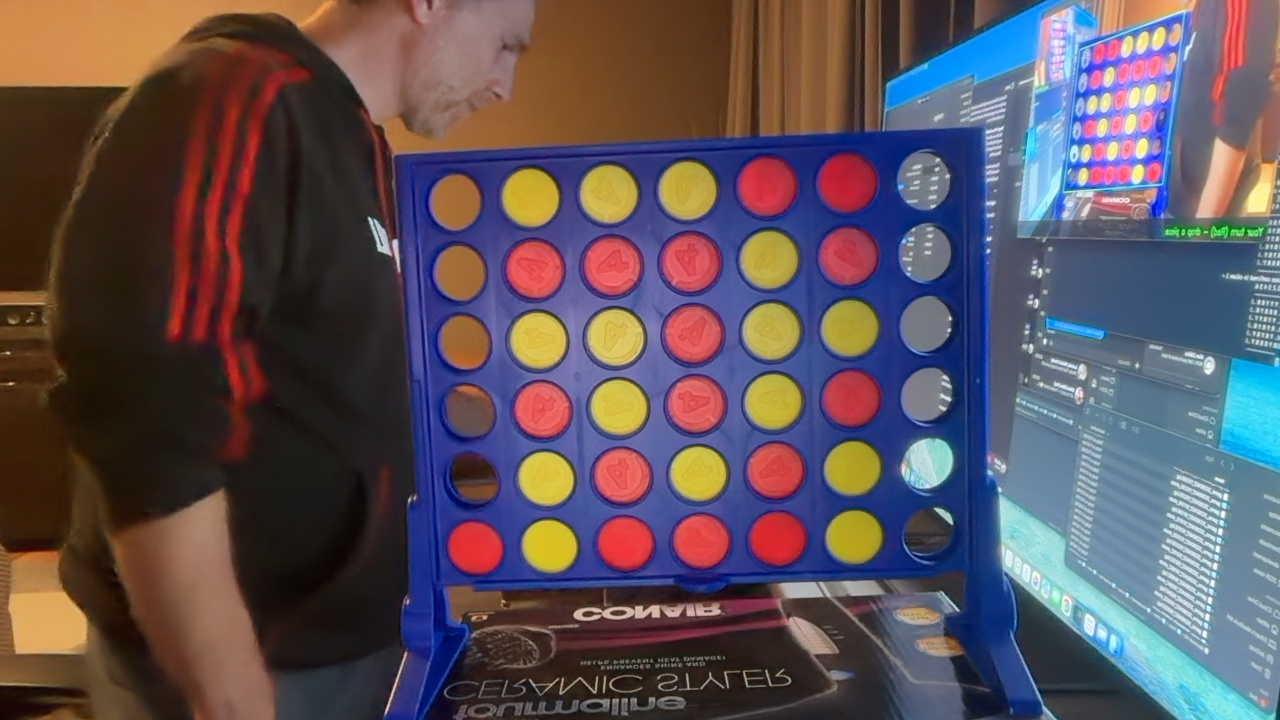red piece: (659, 232, 721, 294), (817, 152, 878, 213), (663, 304, 724, 365), (737, 156, 797, 217), (582, 236, 642, 297), (818, 226, 879, 286), (504, 240, 564, 300), (666, 376, 726, 434), (513, 381, 572, 439), (592, 447, 651, 505), (821, 370, 881, 427), (746, 442, 804, 500), (748, 511, 806, 567), (672, 514, 730, 570), (596, 517, 654, 571), (447, 521, 503, 575)
yellow piece: (739, 229, 799, 290), (658, 160, 717, 221), (501, 167, 560, 228), (579, 163, 638, 224), (586, 308, 645, 368), (508, 311, 568, 370), (588, 378, 648, 437), (820, 299, 879, 358), (742, 302, 801, 361), (743, 373, 803, 431), (669, 446, 728, 502), (823, 441, 882, 496), (517, 451, 574, 507), (825, 511, 883, 565), (521, 519, 578, 573)
